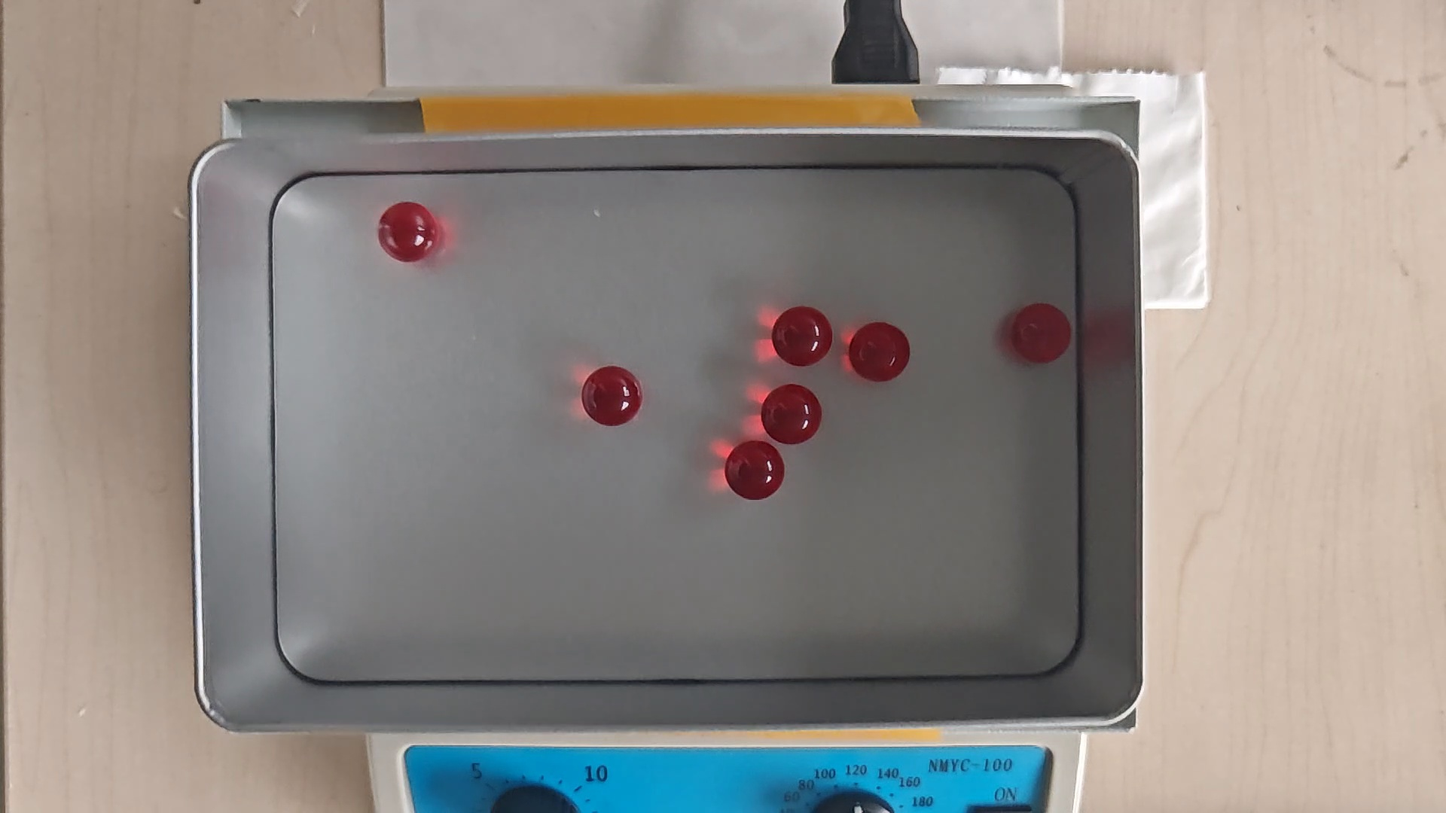ball: (1009, 300, 1073, 367), (377, 200, 440, 265), (847, 321, 911, 384), (761, 383, 825, 445), (770, 305, 834, 367), (581, 365, 643, 428), (725, 440, 786, 501)
container: (270, 172, 1080, 677)
